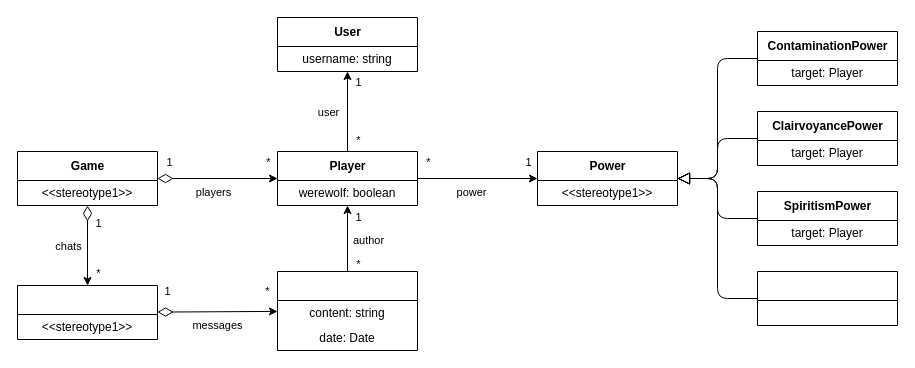
The diagram is 915 pixels wide and 368 high, and some of its shapes have lost their labels. The box of each missing label's shape, as (x1, y1, x2, y2) in pixels:
Chat: (16, 284, 158, 340)
InsomniaPower: (756, 270, 898, 326)
Message: (276, 270, 418, 350)
